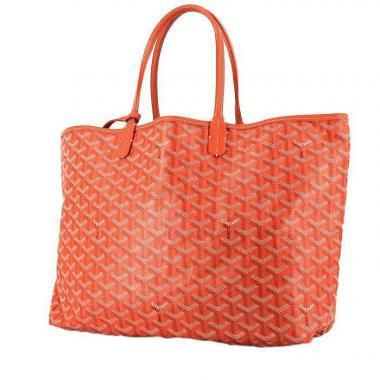GOYARD: (51, 121, 351, 346)
